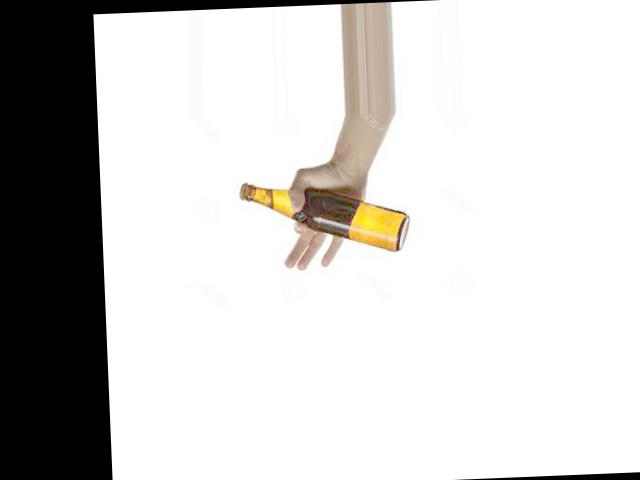beer: (243, 178, 410, 255)
